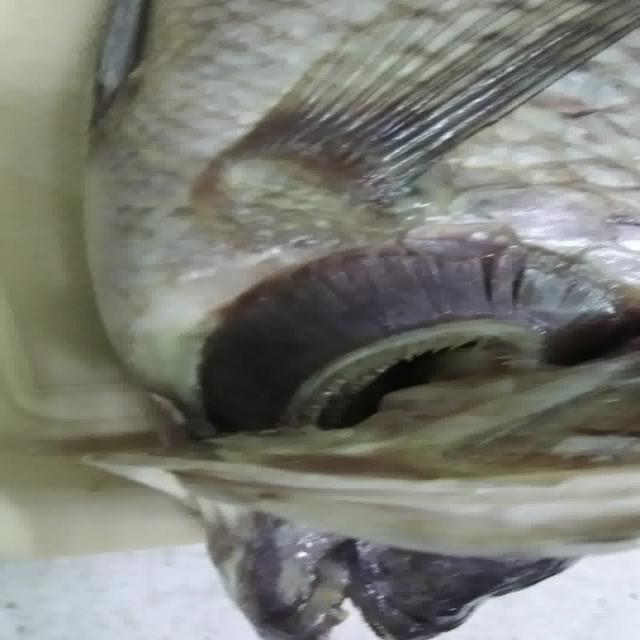Non-Fresh: (186, 228, 632, 434)
